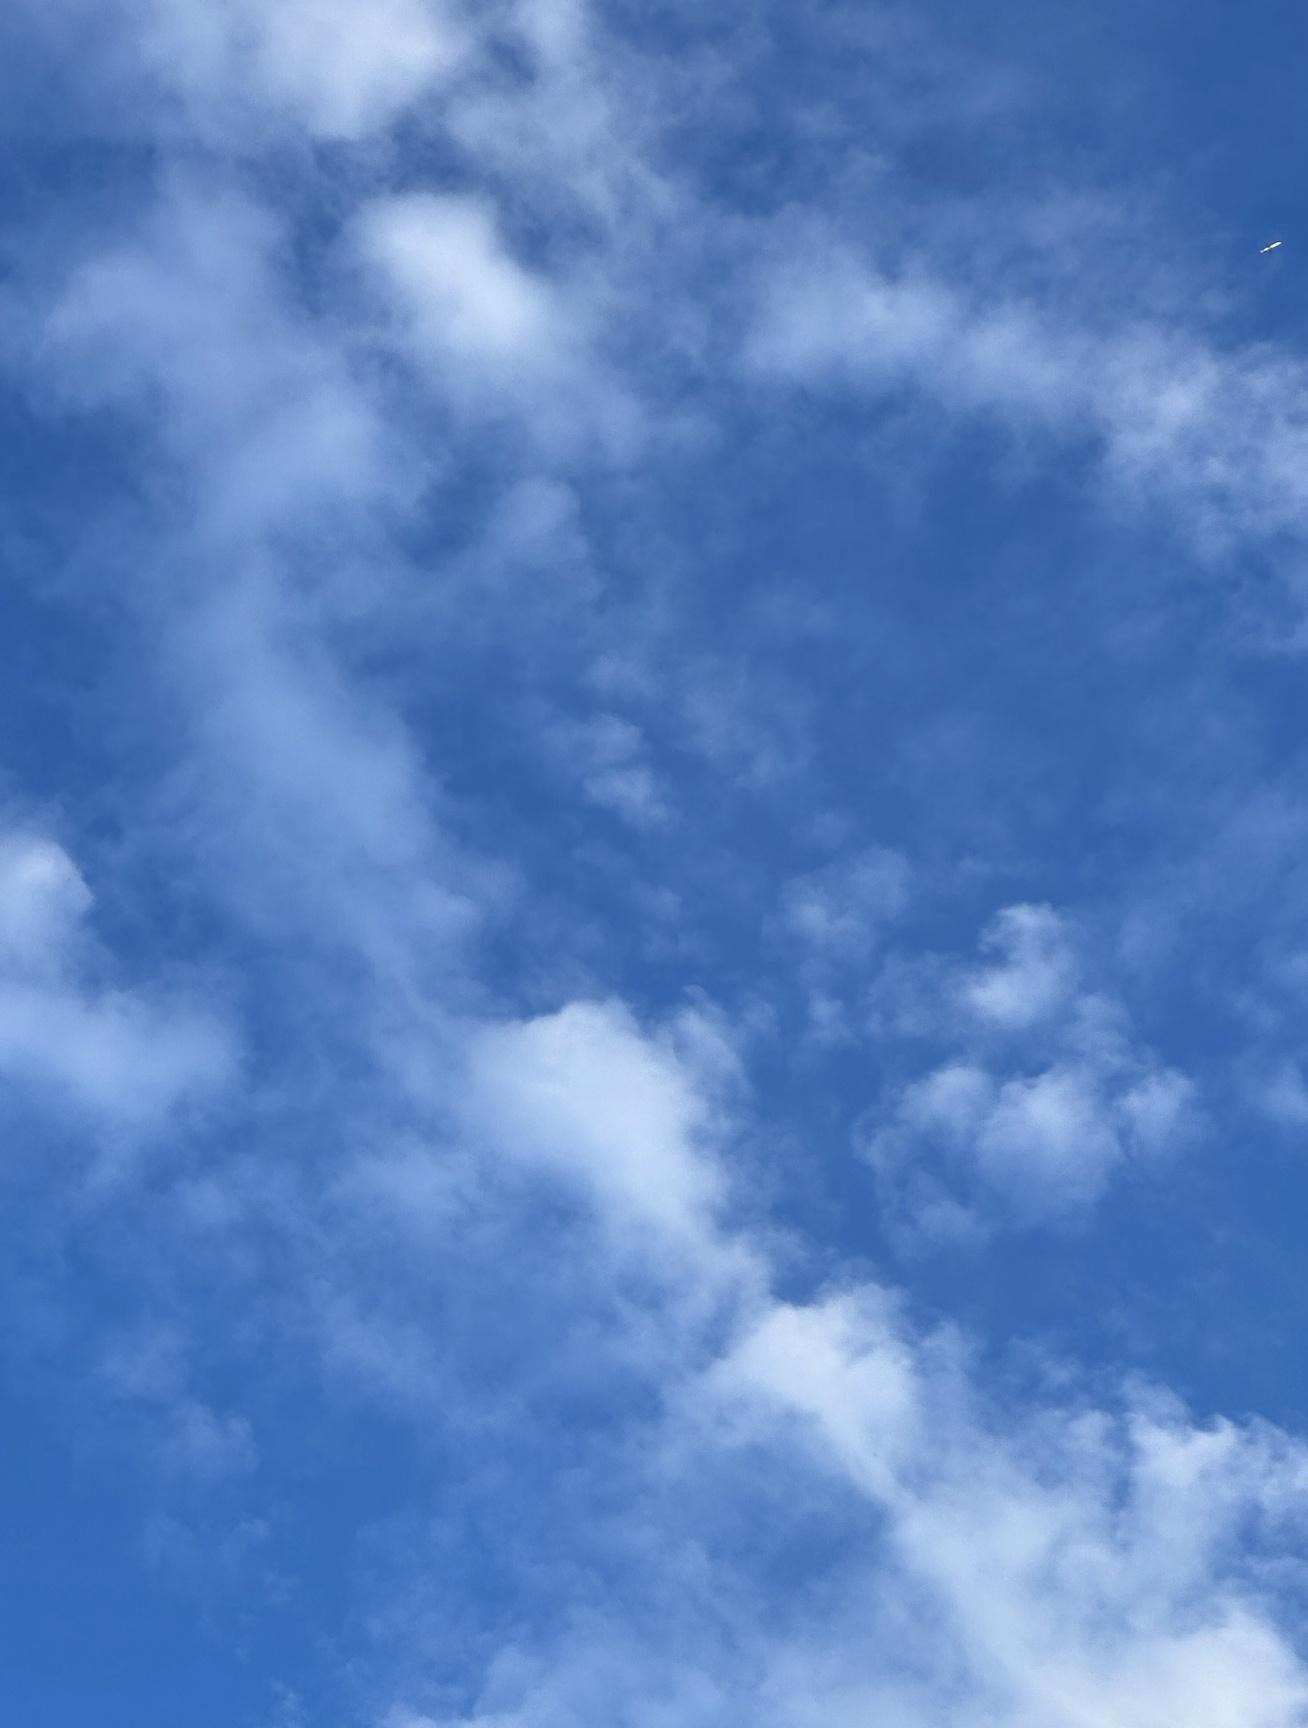Plane: (1261, 225, 1303, 271)
